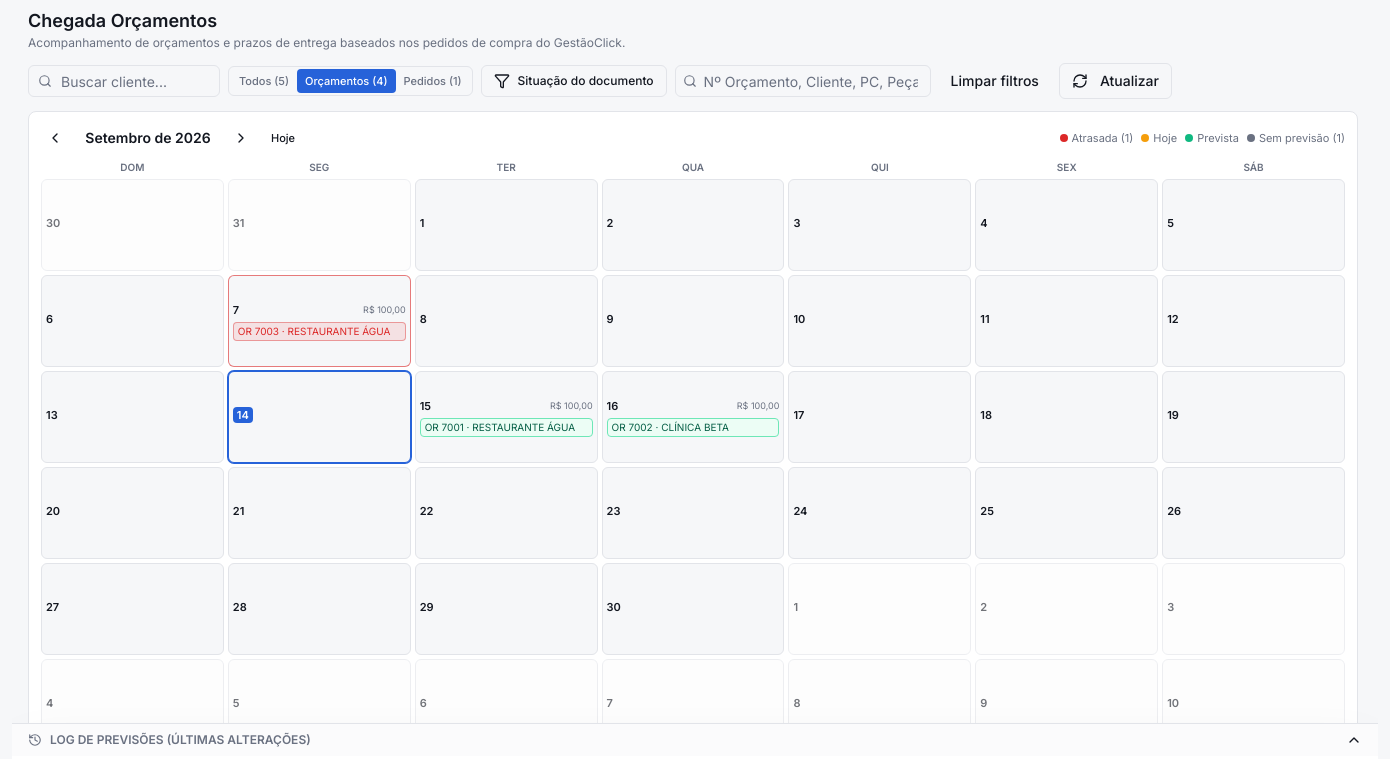
Test: filtros da página de chegada de peças › combina cliente e busca geral e permite limpar mesmo quando não há resultado
The image size is (1390, 759).
Type "  agua  " into the field named "Filtrar chegadas por cliente" at (124, 81), box x1=28 y1=65 x2=220 y2=97
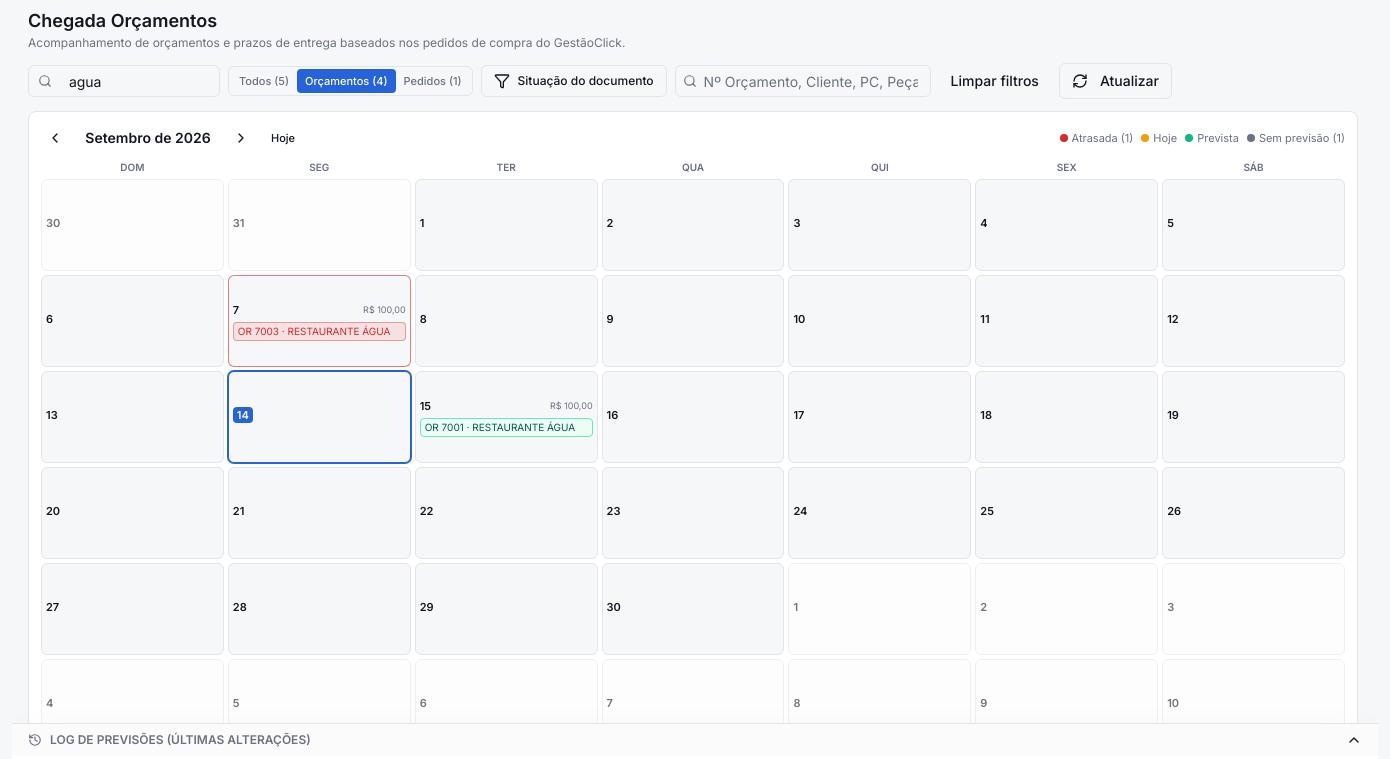
Type "4748" into the field named "Buscar em todas as chegadas" at (803, 81), box x1=675 y1=65 x2=931 y2=97
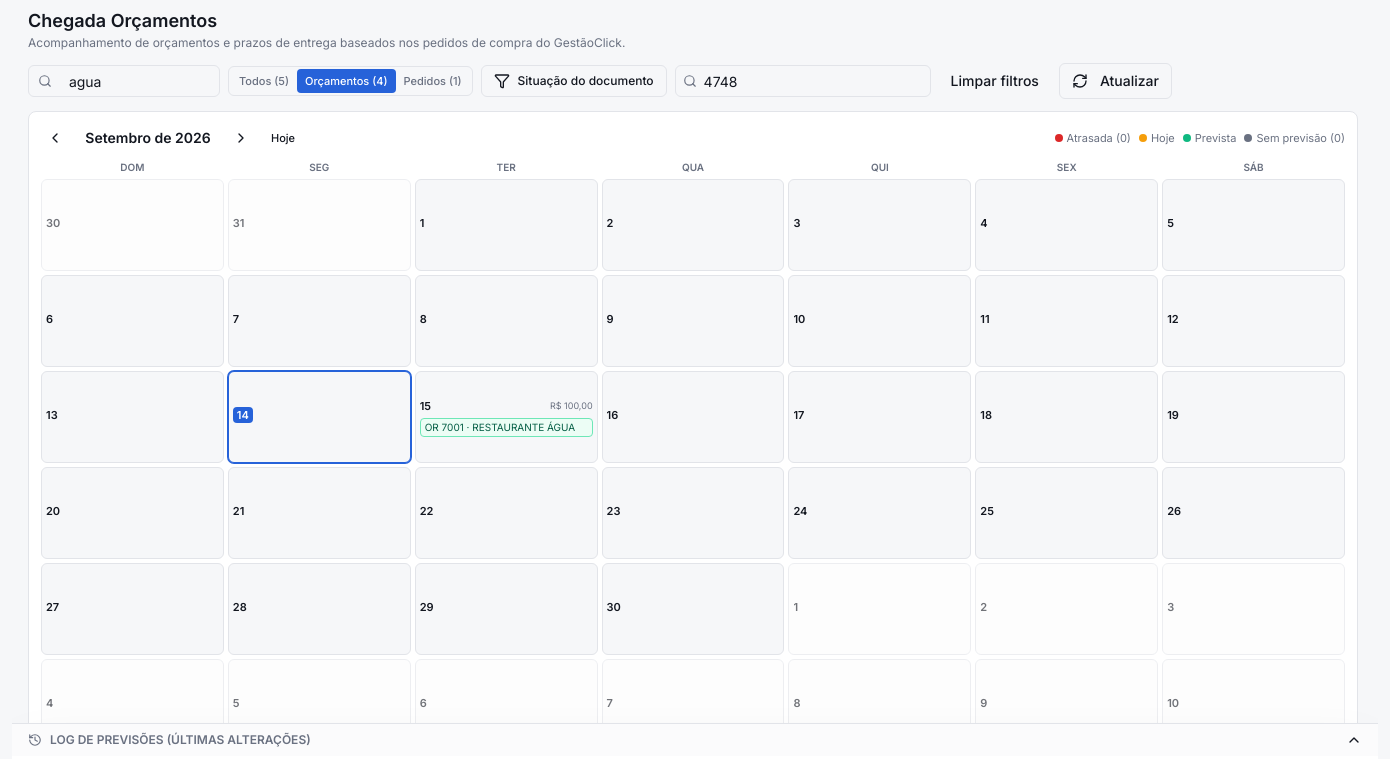
Expected: the text "Orçamento 7002" is not shown
Expected: the text "Orçamento 7003" is not shown
Replace the text in the field named "Filtrar chegadas por cliente" with "beta" at (124, 81), box x1=28 y1=65 x2=220 y2=97
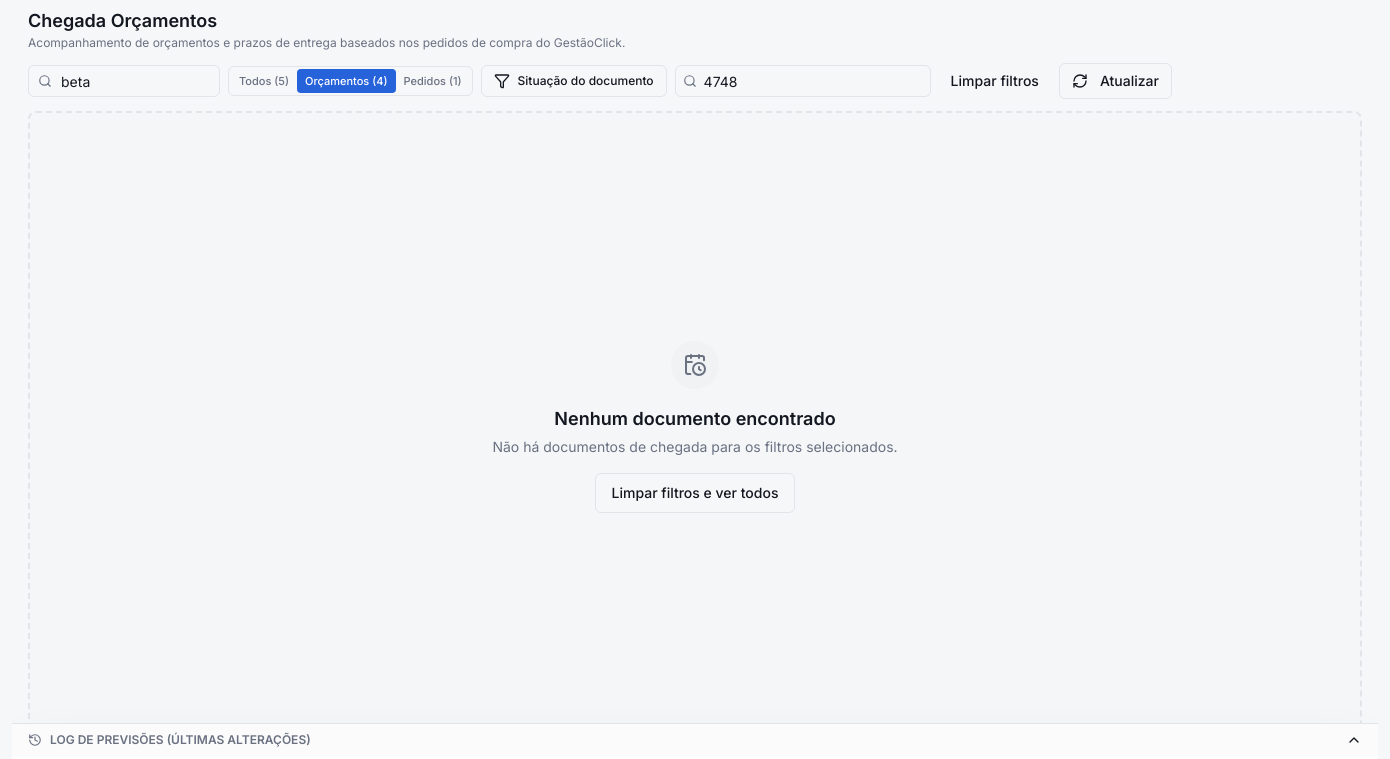
Expected: the text "Orçamento 7002" is not shown
Click the button "Limpar filtros" at (995, 81), box x1=939 y1=63 x2=1051 y2=99
(page scrolled)
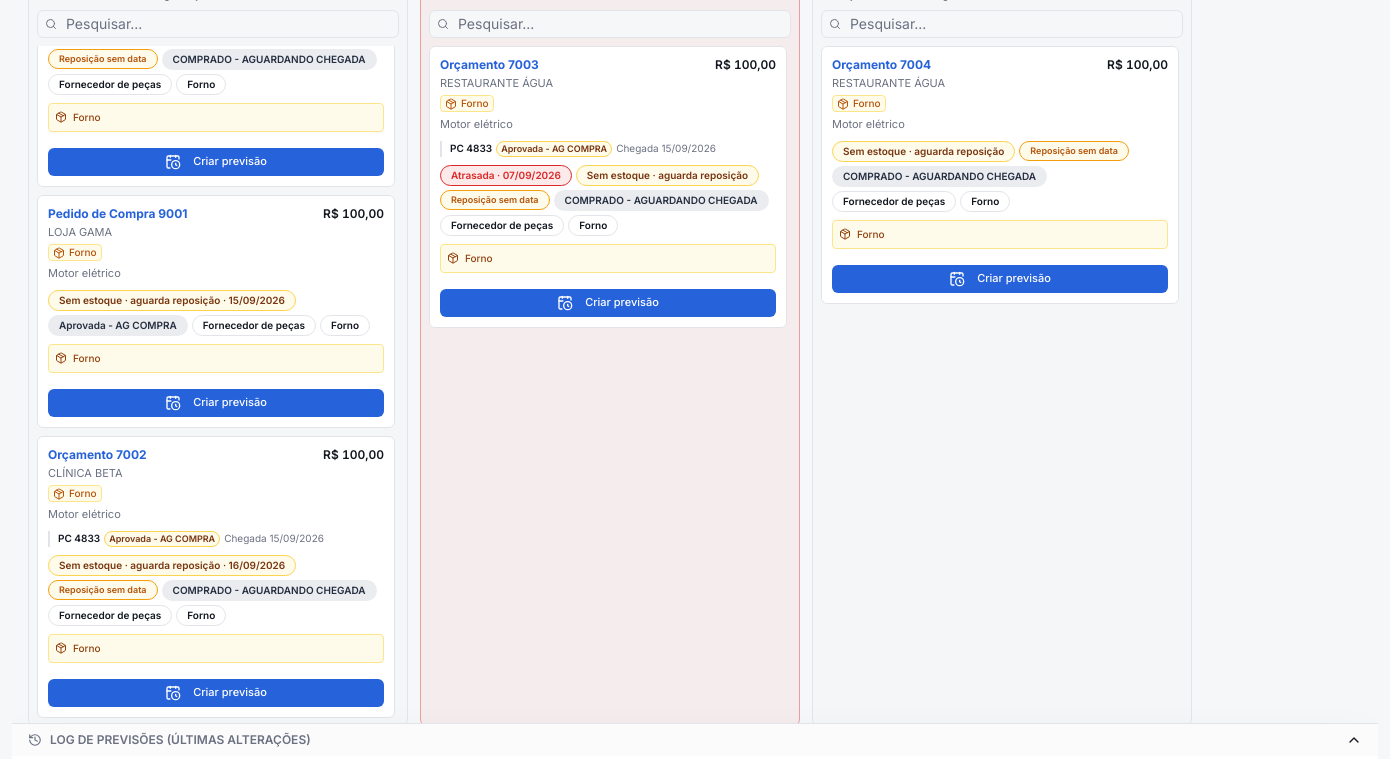
Expected: the text "Orçamento 7002" is shown, x1=48 y1=446 x2=147 y2=462
